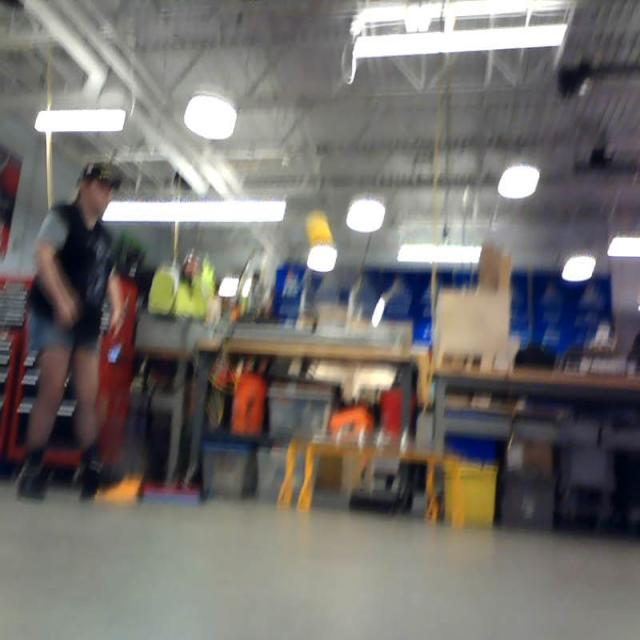Fuel: (310, 223, 332, 249)
